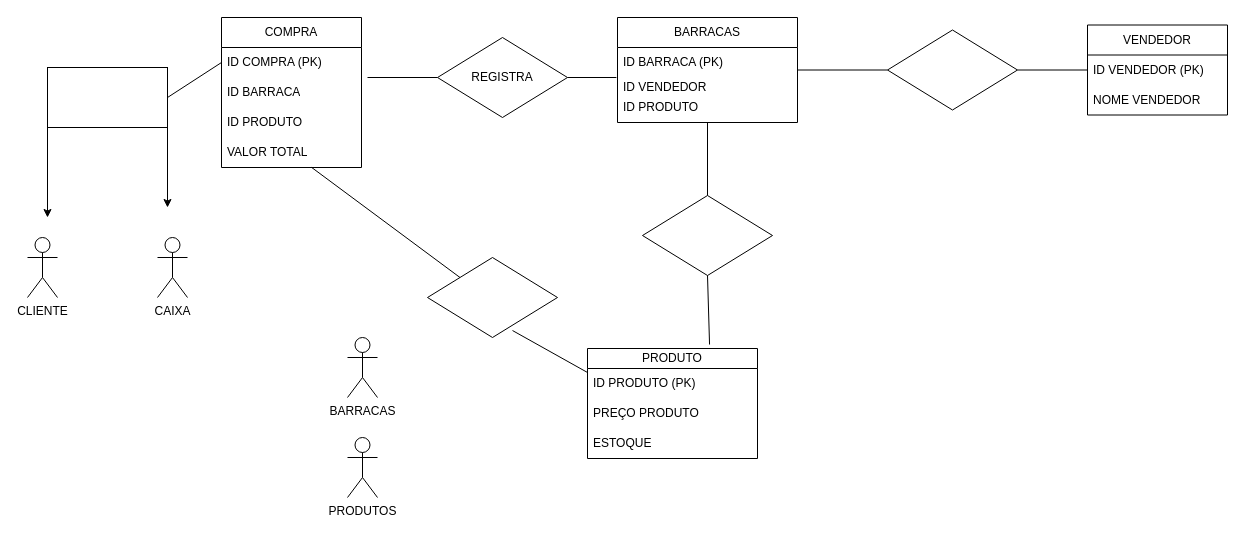
This 1245x536 diagram has some shape labels left out. The shapes that lost their labels are listed below. From the top down, each one's centre as x and y in pixels, then its label:
pixel 952 69: OPERA
pixel 107 97: ID DA COMPRA
pixel 707 235: VENDE
pixel 492 297: GERA
